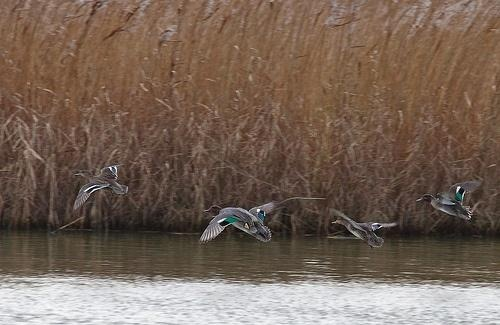bird: (189, 197, 284, 254), (65, 159, 134, 216), (411, 177, 486, 227), (327, 209, 401, 252)
